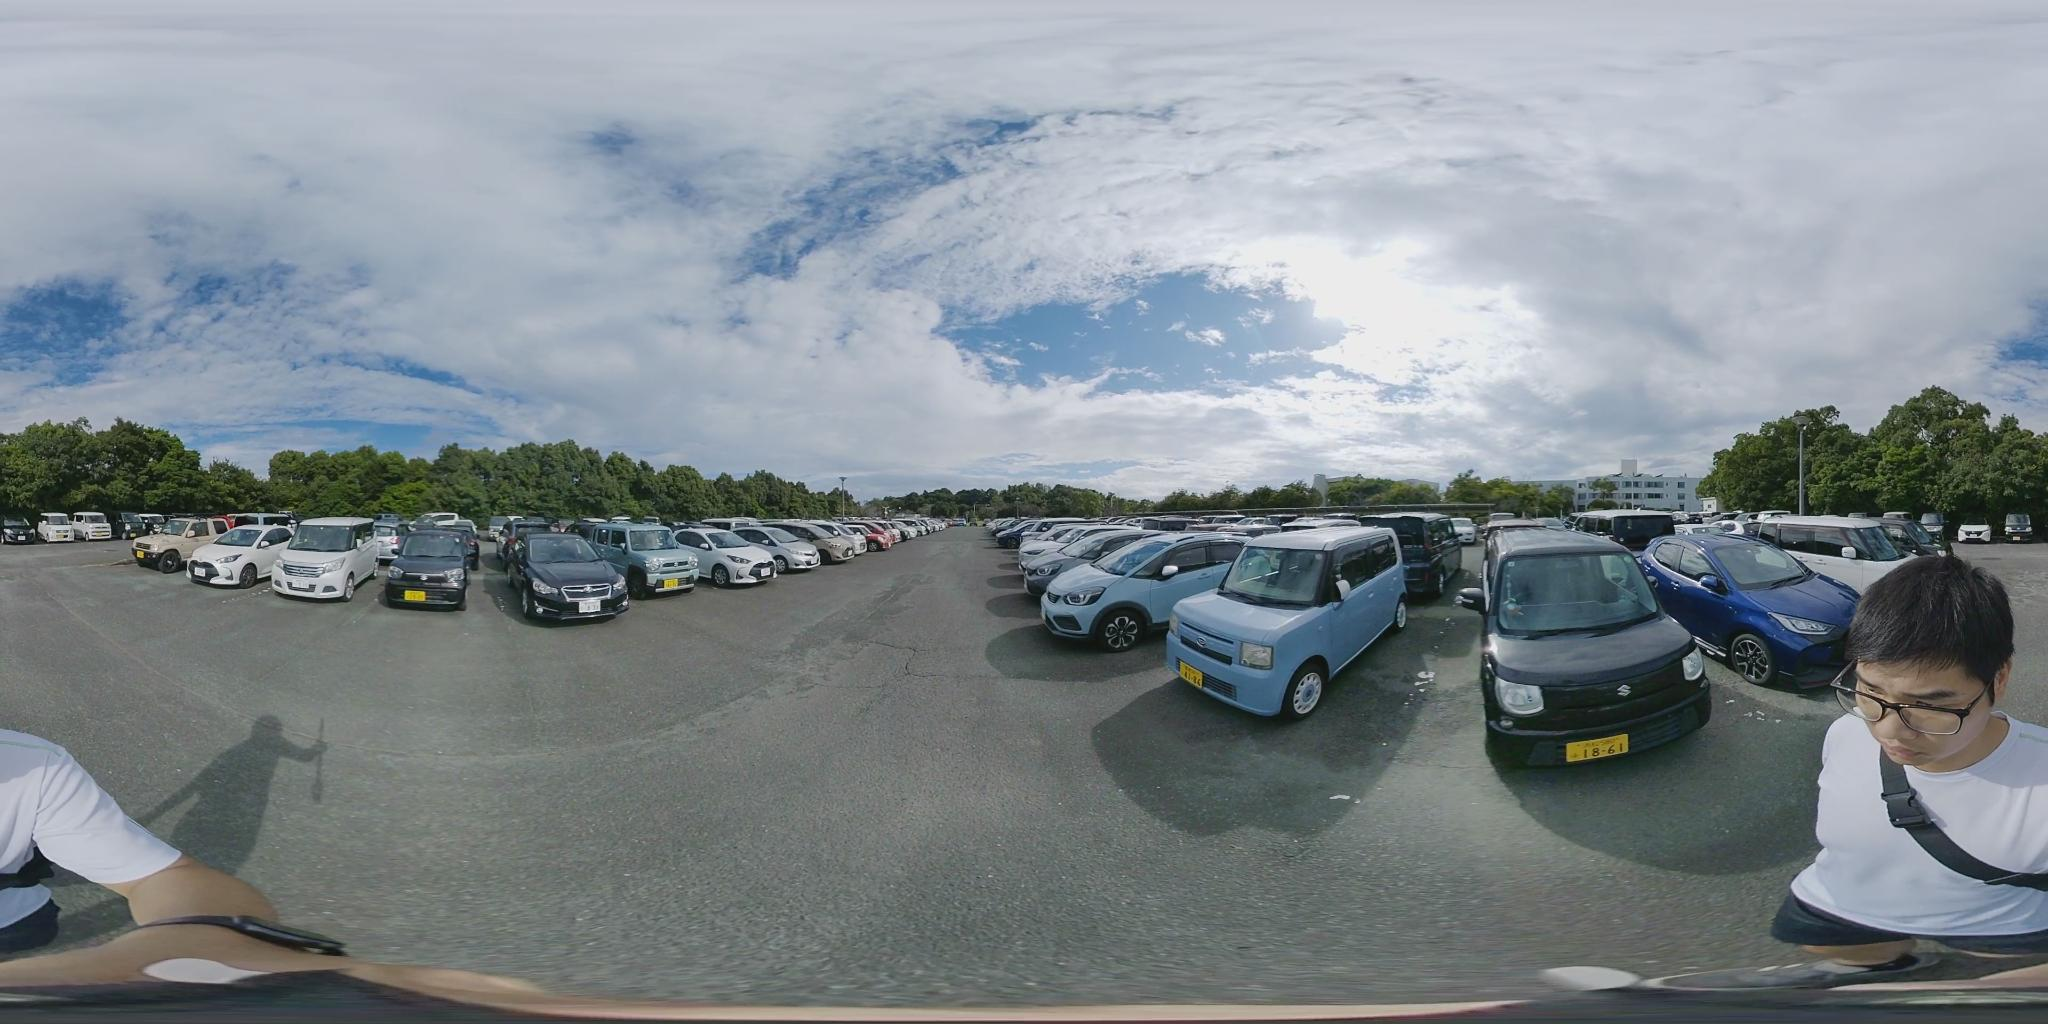car: (1463, 529, 1719, 764), (1635, 532, 1869, 692), (1038, 530, 1258, 652), (1748, 513, 1924, 589), (504, 532, 633, 627), (583, 522, 707, 598), (679, 524, 818, 584), (187, 520, 294, 586), (286, 519, 371, 596), (393, 533, 465, 609), (38, 519, 101, 543)
